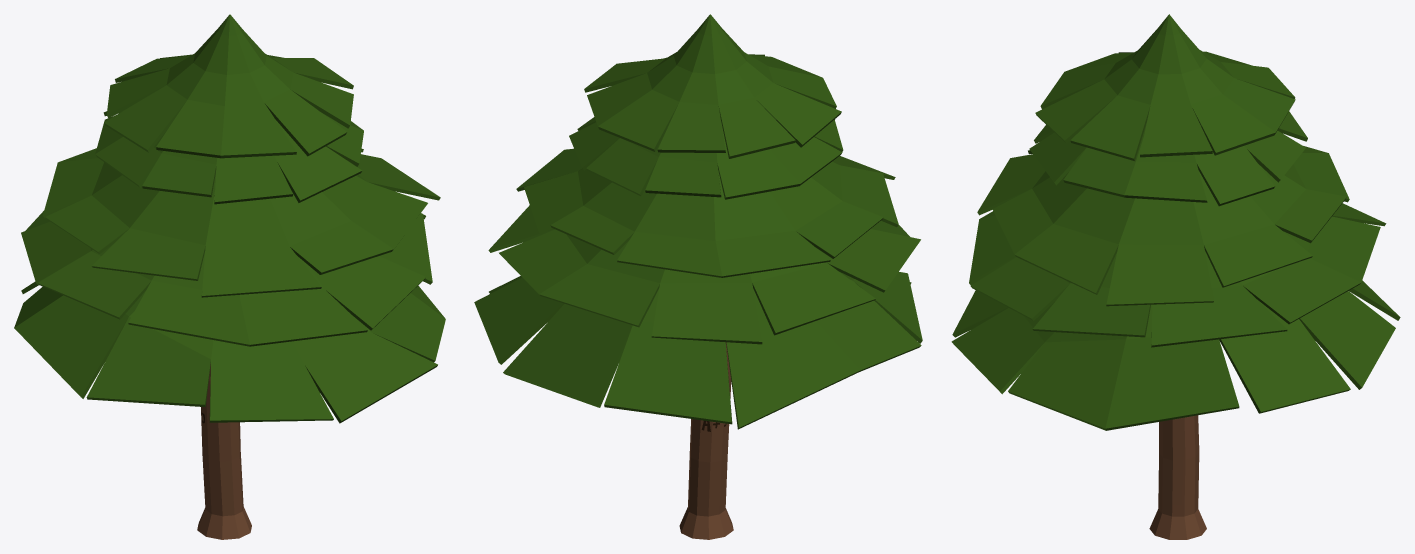
File: pineinitials.fbx
The picture shows the model from 3 angles, left to right: view 1: azimuth 30°, elevation 25°; view 2: azimuth 150°, elevation 25°; view 3: azimuth 270°, elevation 25°; orthographic projection.
Parts seen in each view (by area): view 1: Circle.004; view 2: Circle.004; view 3: Circle.004.
Part boxes in pixels (x1,y1,x2,y2): Circle.004: (14,14,445,539); Circle.004: (474,14,922,539); Circle.004: (951,14,1400,539).
Bounding box in the file's own units: 212 × 277 × 219.
